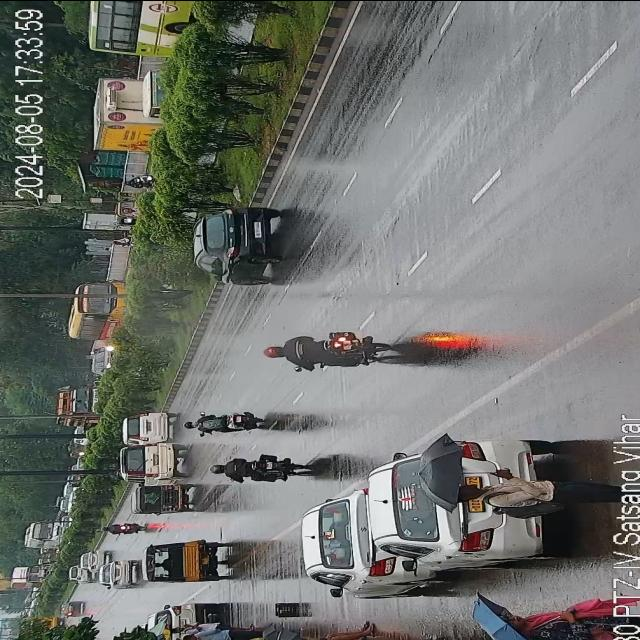2-wheelers: (263, 330, 395, 378), (211, 449, 303, 483), (185, 404, 265, 436), (102, 518, 140, 535)
auto: (148, 539, 222, 584), (138, 478, 194, 512)
bus: (78, 0, 202, 60)
car: (370, 434, 558, 582), (299, 494, 412, 596), (193, 204, 280, 286), (122, 439, 184, 478), (121, 407, 174, 442), (100, 557, 138, 589), (67, 562, 91, 582), (80, 552, 106, 570)
pedestrian: (489, 595, 640, 640), (454, 477, 610, 507), (305, 619, 375, 640), (169, 620, 250, 632), (182, 628, 262, 640)
truck: (90, 62, 174, 154)
